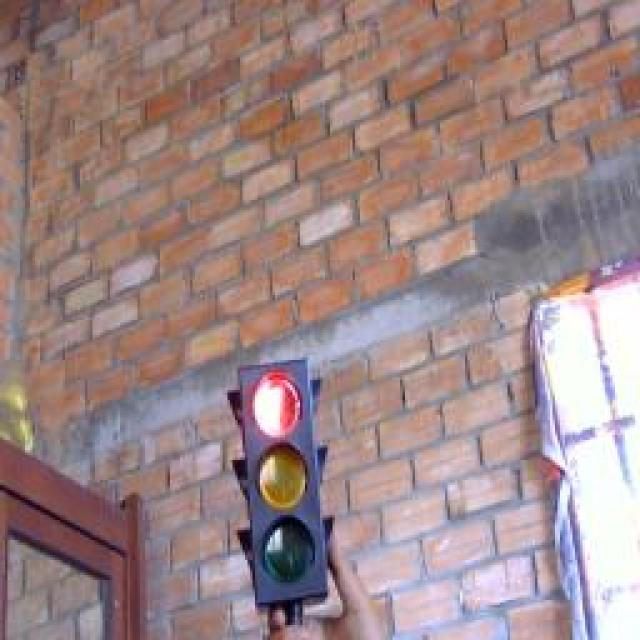-: (247, 362, 307, 442)
